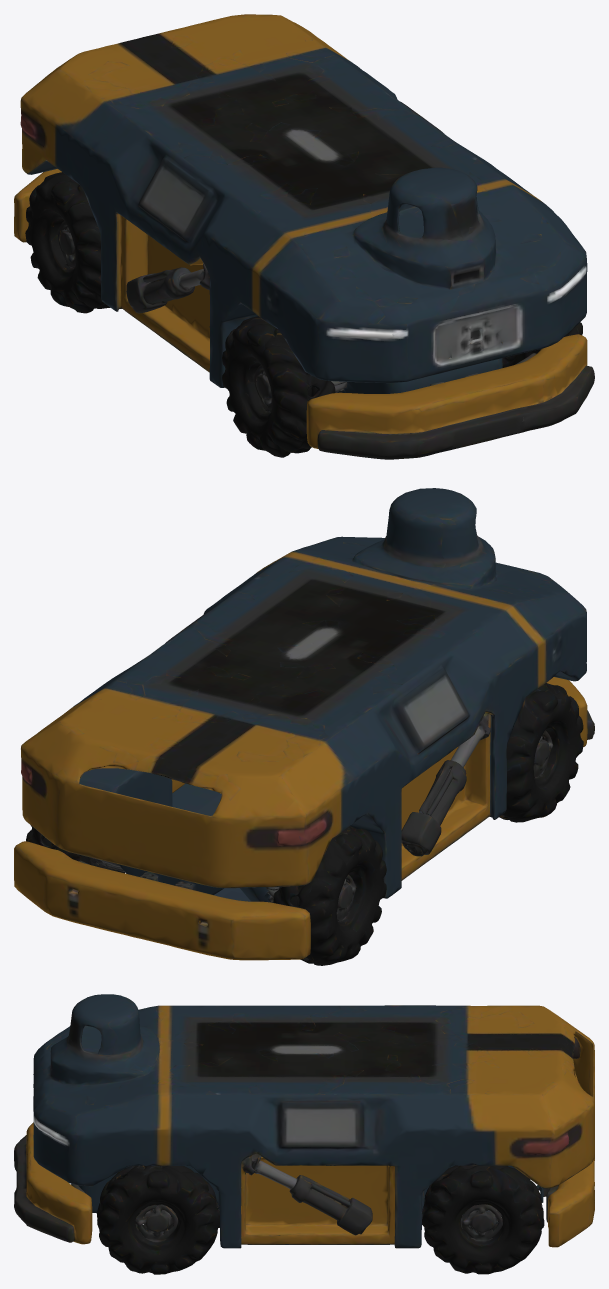
File: sample_2026-08-17T142655.151.glb
The picture shows the model from 3 angles, top to bottom: view 1: azimuth 30°, elevation 25°; view 2: azimuth 150°, elevation 25°; view 3: azimuth 270°, elevation 25°; orthographic projection. The views are drawn at different scales.
Parts seen in each view (by area): view 1: world; view 2: world; view 3: world.
Part boxes in pixels (left/top/right/bottom): world: left=14, top=14, right=594, bottom=459; world: left=14, top=488, right=594, bottom=965; world: left=14, top=994, right=594, bottom=1274.
Size of the model in its own units: 0.5009 by 0.4105 by 1.
Materials: 1 (1 with a texture image).
